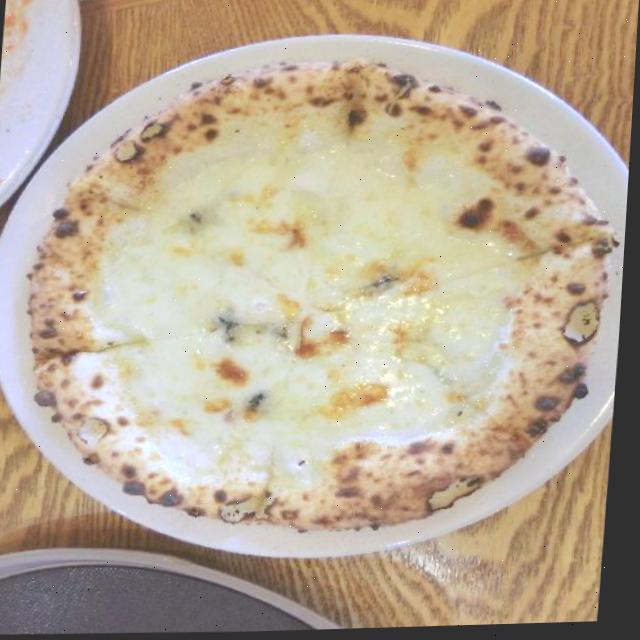汉堡快餐: (0, 8, 639, 584)
